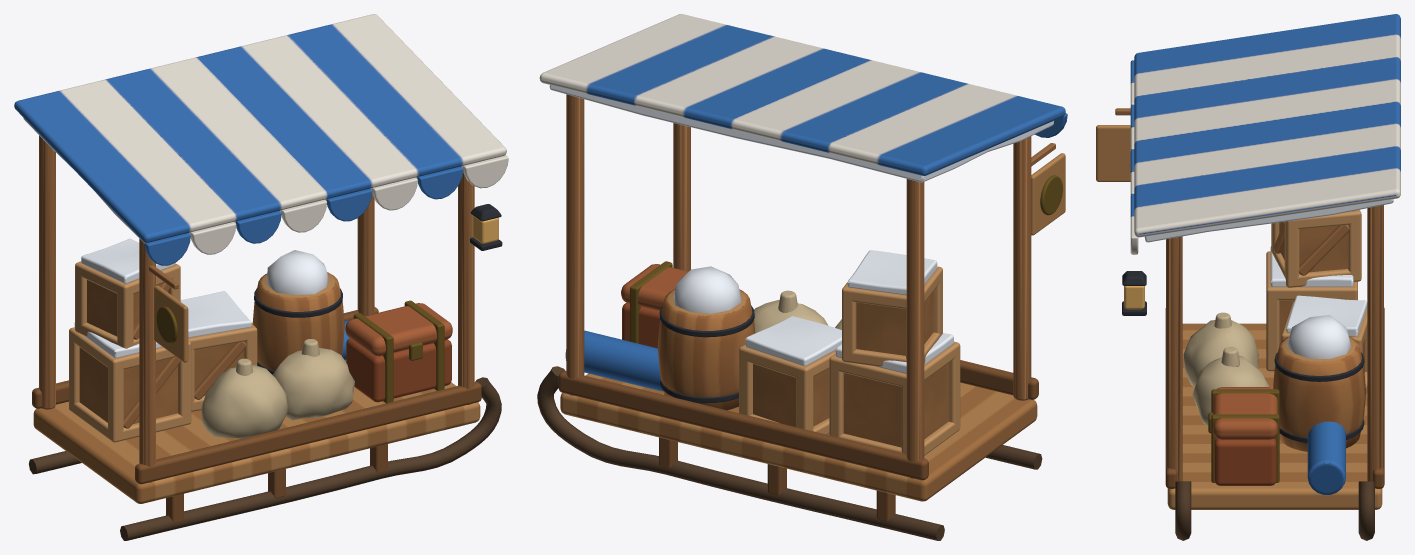
File: trade_post.glb
3 renders of one model, left to right at view 1: azimuth 30°, elevation 25°; view 2: azimuth 150°, elevation 25°; view 3: azimuth 270°, elevation 25°, orthographic. The views are drawn at different scales.
Visible parts, largest first — view 1: awning, runner, runner.001; view 2: awning, runner.001, runner; view 3: awning, runner, runner.001.
Part boxes in pixels (x1,y1,x2,y2): awning: (14, 14, 508, 522); runner: (120, 377, 501, 540); runner.001: (29, 451, 81, 474); awning: (539, 14, 1067, 521); runner.001: (537, 366, 944, 540); runner: (985, 445, 1042, 469); awning: (1096, 14, 1400, 509); runner: (1175, 481, 1191, 540); runner.001: (1358, 481, 1374, 540).
Bounding box in the file's own units: 2.98 × 2.73 × 2.06.
2 materials, 1 textured.
